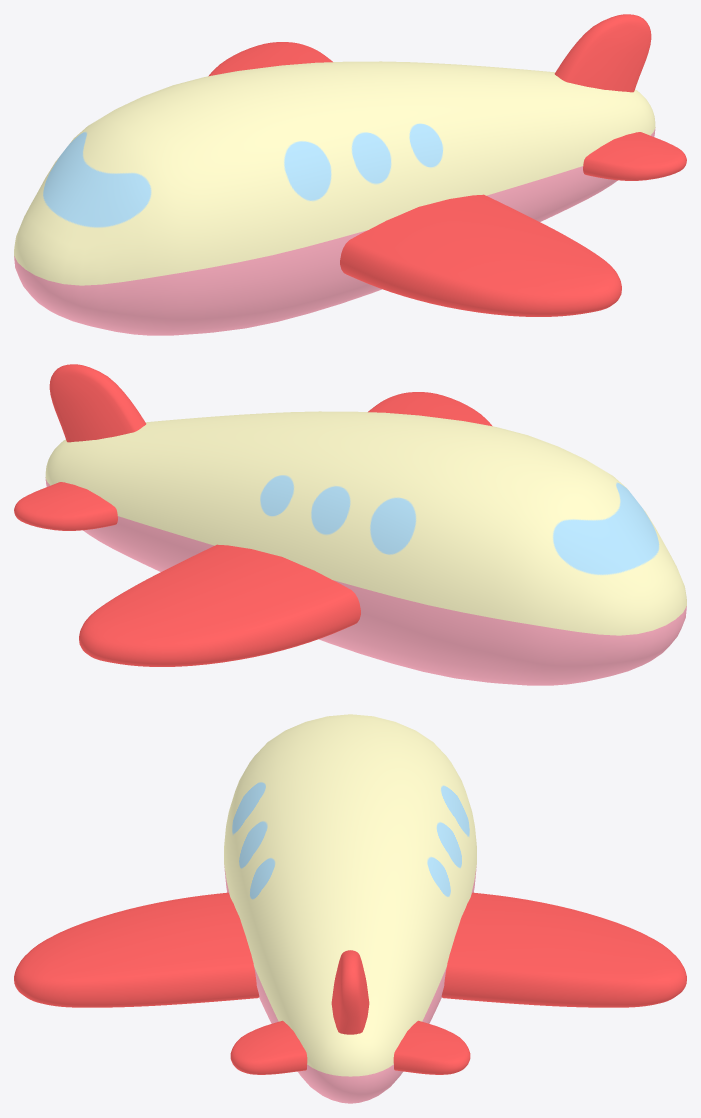
The model's file is airplane_animation.glb.
The picture shows the model from 3 angles, top to bottom: view 1: azimuth 30°, elevation 25°; view 2: azimuth 150°, elevation 25°; view 3: azimuth 270°, elevation 25°; orthographic projection.
Visible parts, largest first — view 1: pCube1, pCube6, pCube2, pCube4, pCube5; view 2: pCube1, pCube5, pCube2, pCube3, pCube6; view 3: pCube1, pCube5, pCube6, pCube3, pCube4, pCube2.
Part boxes in pixels (x1,y1,x2,y2): pCube1: (14, 61, 655, 335); pCube6: (340, 194, 621, 316); pCube2: (554, 14, 651, 92); pCube4: (583, 132, 686, 180); pCube5: (208, 42, 332, 76); pCube1: (45, 411, 686, 685); pCube5: (79, 544, 360, 666); pCube2: (49, 364, 146, 442); pCube3: (14, 482, 117, 530); pCube6: (368, 392, 492, 426); pCube1: (224, 714, 476, 1103); pCube5: (441, 892, 686, 1007); pCube6: (14, 892, 259, 1007); pCube3: (393, 1020, 470, 1074); pCube4: (230, 1020, 307, 1074); pCube2: (331, 950, 369, 1034).
Size of the model in its own units: 0.1096 by 0.0379 by 0.1042.
Materials: 1 (1 with a texture image).
